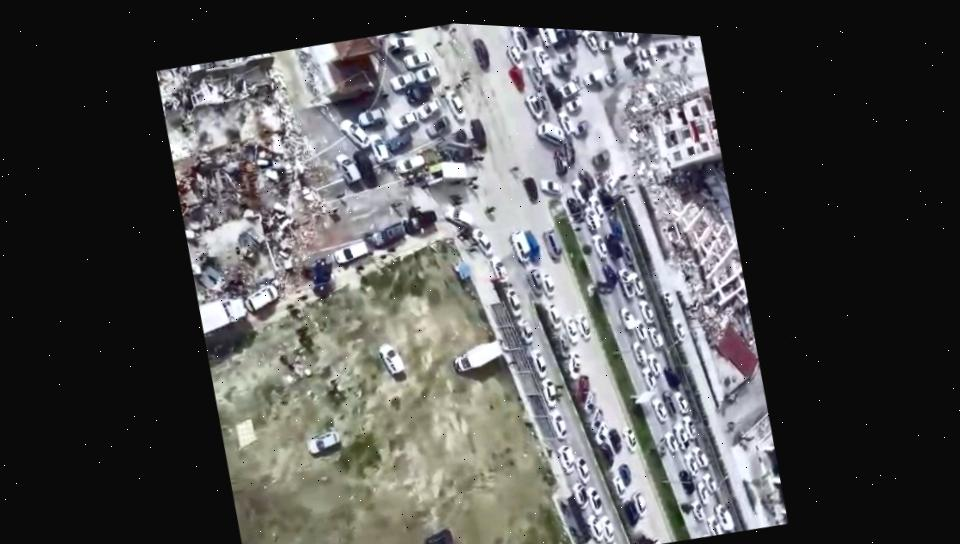kapali: (171, 106, 363, 311)
